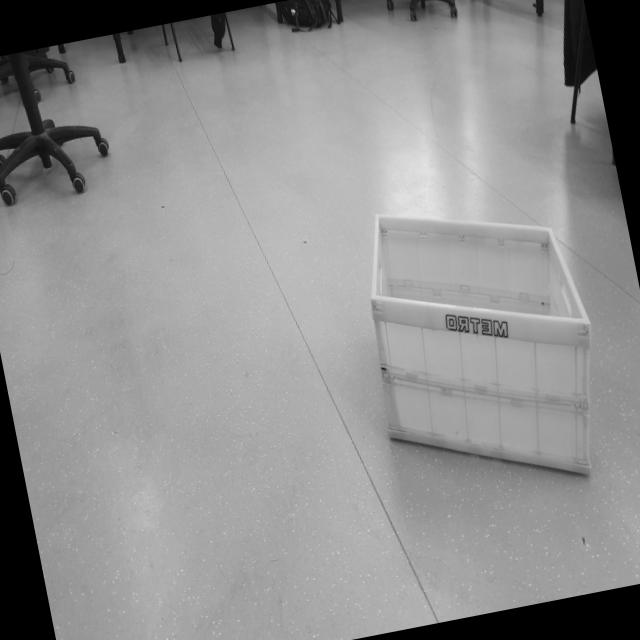box: (340, 175, 630, 524)
